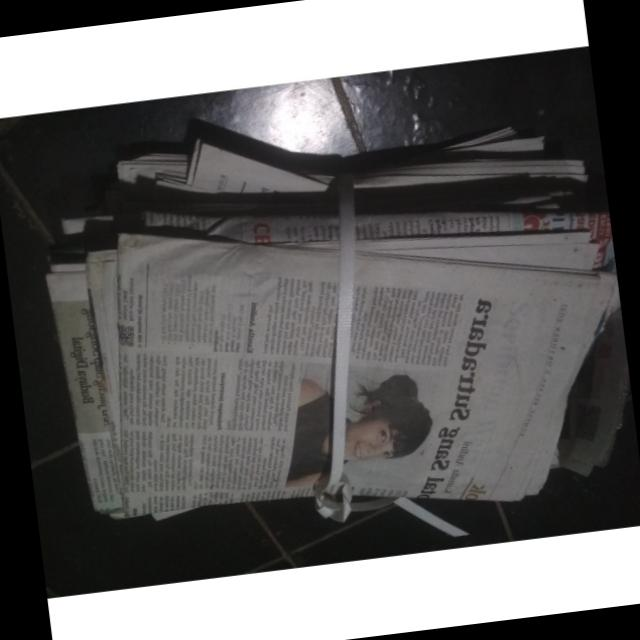Koran: (35, 134, 640, 560)
